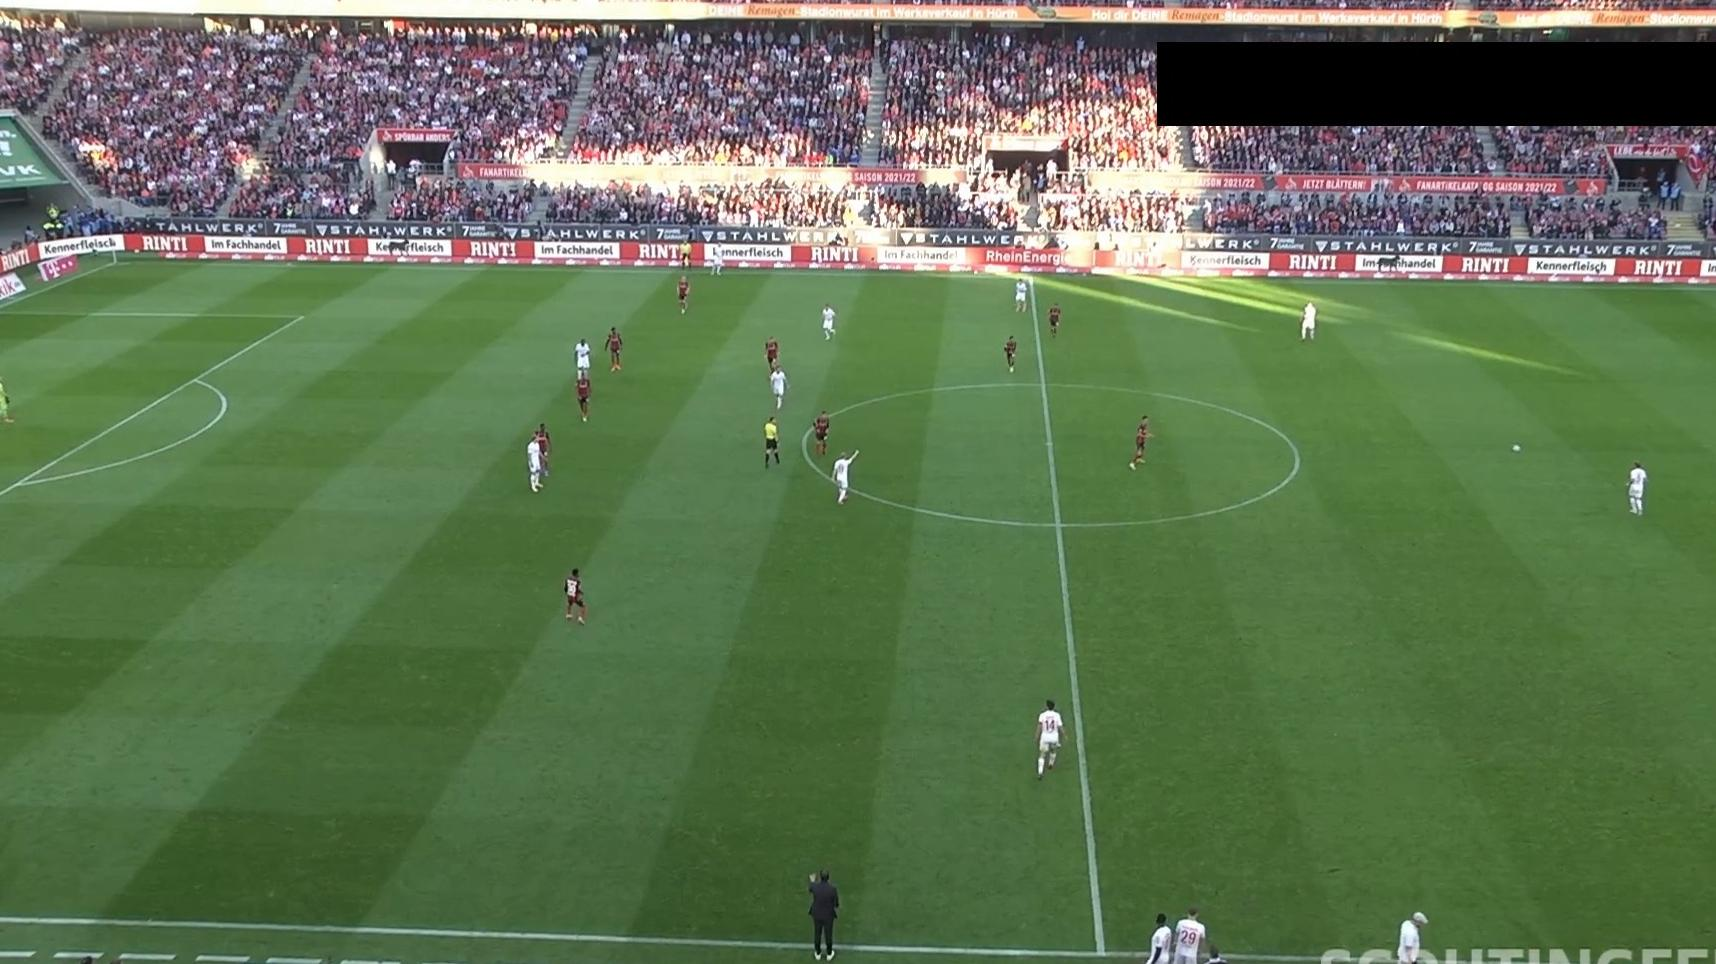ball: (1512, 443, 1522, 454)
